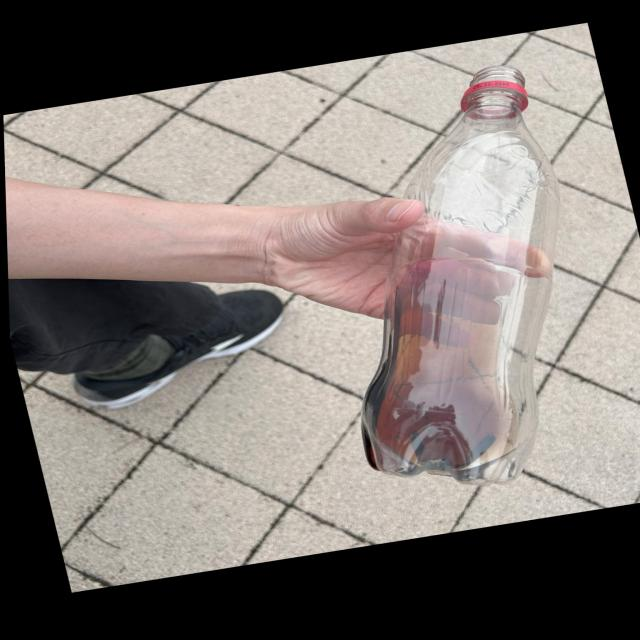low: (362, 65, 558, 484)
